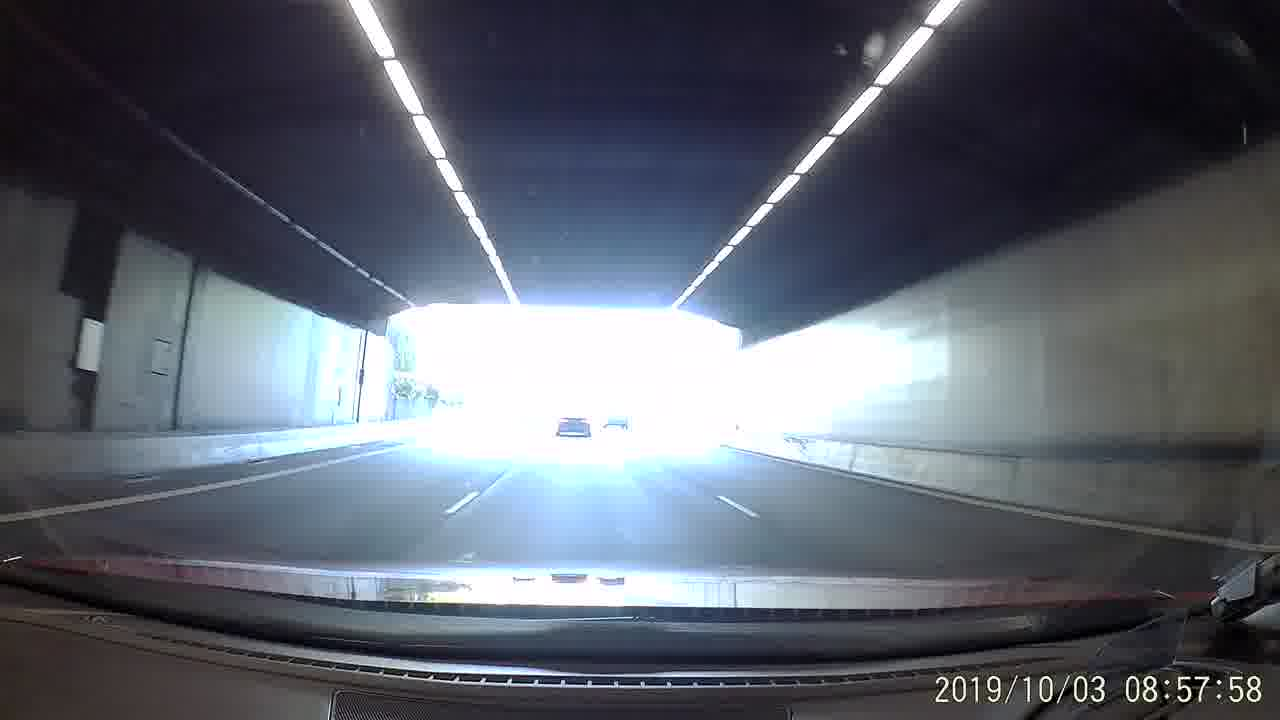car: (554, 412, 595, 441)
